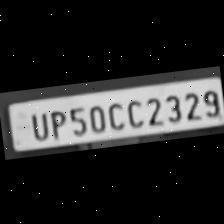0: (84, 100, 107, 132)
2: (140, 92, 164, 126), (178, 88, 201, 121)
3: (160, 90, 184, 123)
5: (64, 101, 88, 135)
9: (196, 86, 220, 118)
C: (122, 95, 144, 128), (104, 98, 124, 130)
P: (44, 105, 68, 138)
U: (24, 108, 50, 140)
